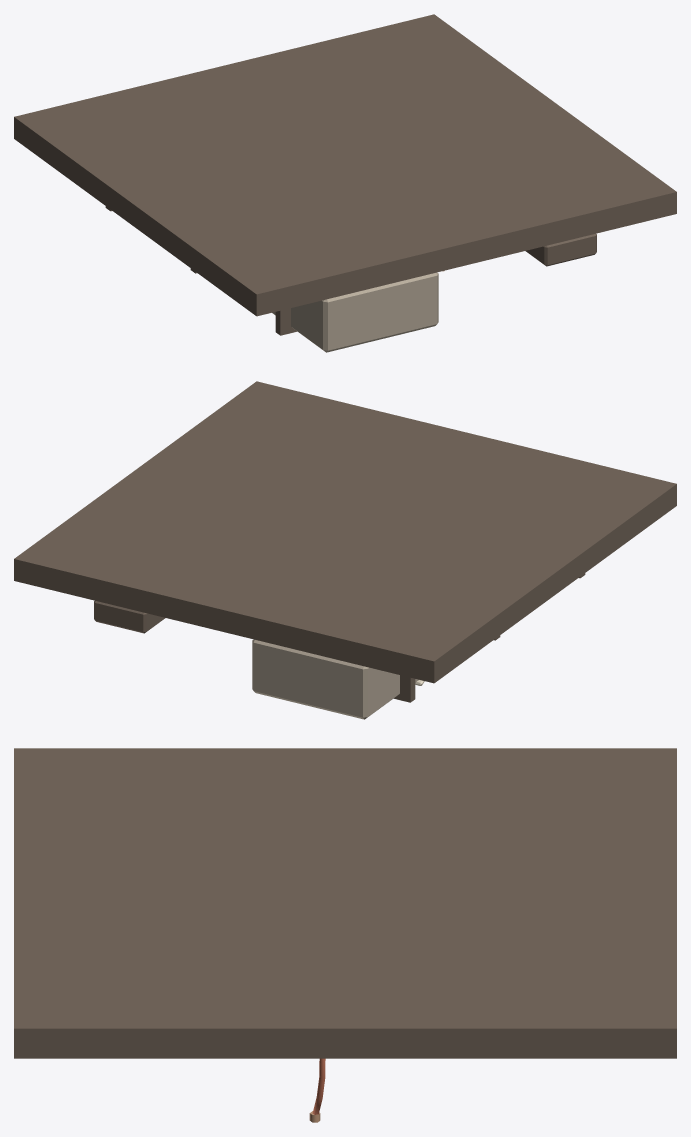
File: ceil_du_works.glb
The picture shows the model from 3 angles, top to bottom: view 1: azimuth 30°, elevation 25°; view 2: azimuth 150°, elevation 25°; view 3: azimuth 270°, elevation 25°; orthographic projection. The views are drawn at different scales.
Parts seen in each view (by area): view 1: ceil_du_works; view 2: ceil_du_works; view 3: ceil_du_works.
Boxes of the visible parts, box(x1,y1,x2,y2) form: ceil_du_works: box(14, 14, 676, 352); ceil_du_works: box(14, 381, 676, 719); ceil_du_works: box(14, 748, 676, 1122).
Size of the model in its own units: 4 by 1.3 by 4.
